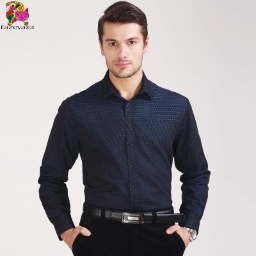face: (96, 1, 152, 79)
